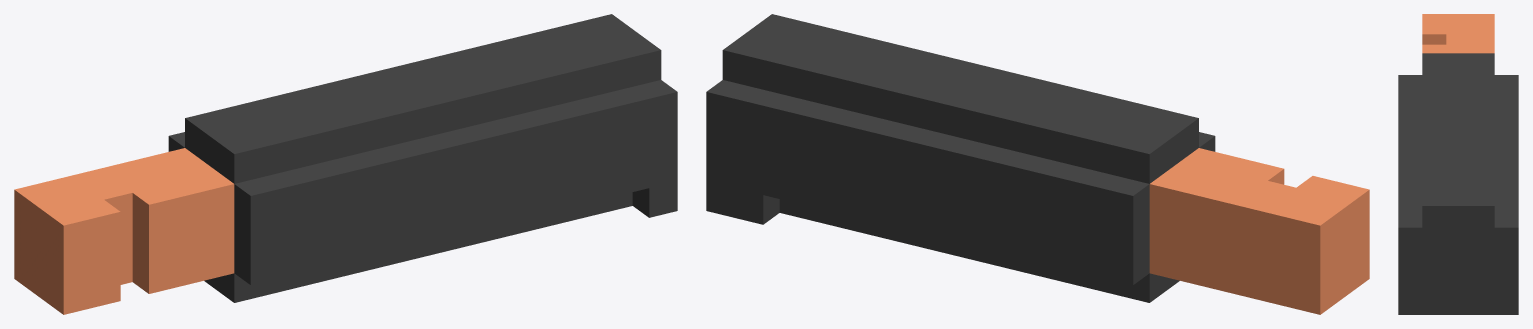
The model's file is hero_right_hand.obj.
3 views of the same model, side by side, from view 1: azimuth 30°, elevation 25°; view 2: azimuth 150°, elevation 25°; view 3: azimuth 270°, elevation 25° (orthographic). The views are drawn at different scales.
Bounding box in the file's own units: 2.1 × 0.5 × 0.5.
Materials: 1 (1 with a texture image).
